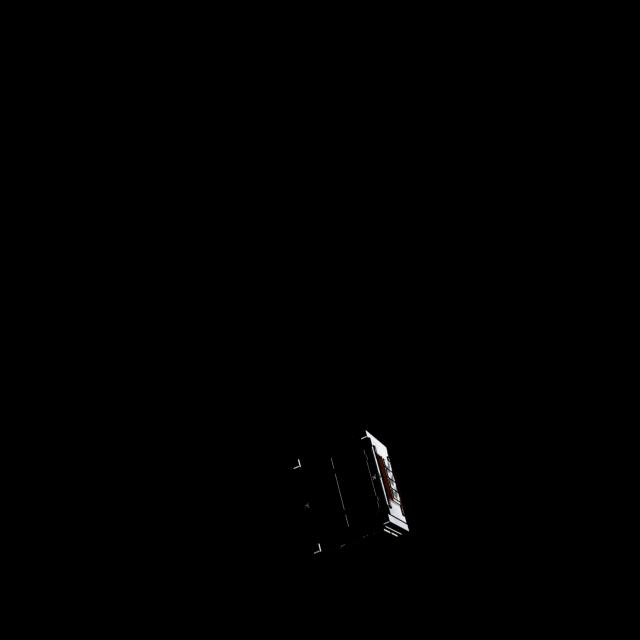medium_debris: (278, 426, 416, 560)
